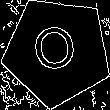O_S: (31, 22, 83, 81)
